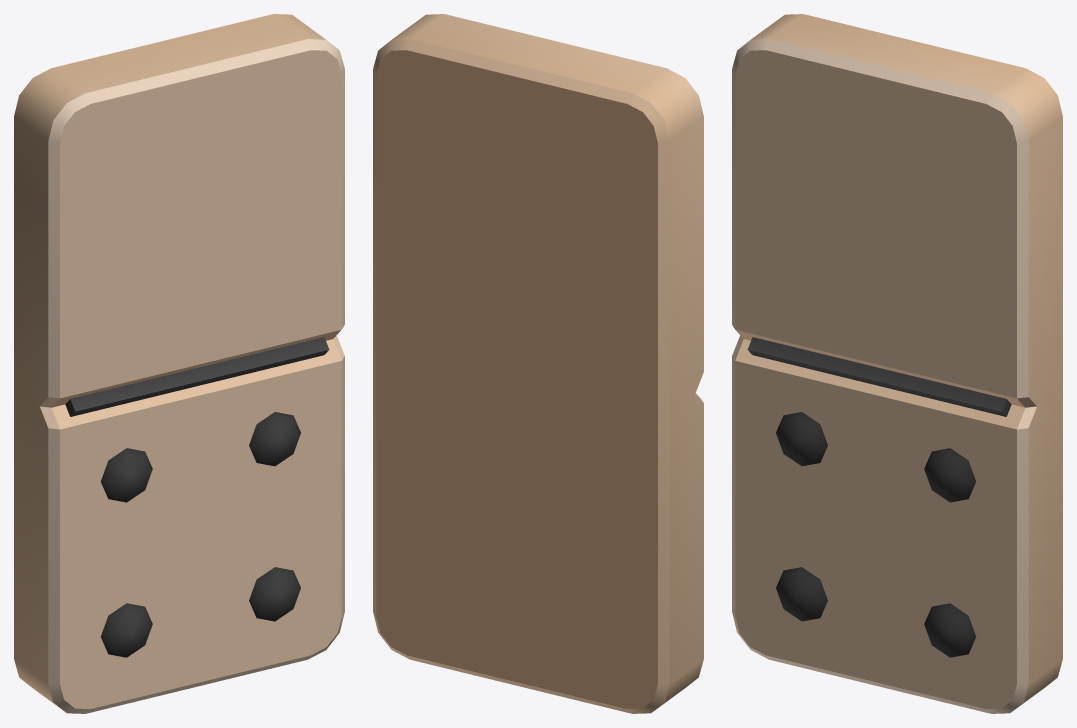
The model's file is KFB_Domino_0-4.r1.glb.
3 renders of one model, left to right at view 1: azimuth 30°, elevation 25°; view 2: azimuth 150°, elevation 25°; view 3: azimuth 330°, elevation 25°, orthographic.
Parts seen in each view (by area): view 1: KFB_Domino_0-4; view 2: KFB_Domino_0-4; view 3: KFB_Domino_0-4.
Part boxes in pixels (x1,y1,x2,y2): KFB_Domino_0-4: (14, 14, 344, 713); KFB_Domino_0-4: (373, 14, 703, 713); KFB_Domino_0-4: (732, 14, 1062, 713).
Bounding box in the file's own units: 2.44 × 4.87 × 0.6739.
Materials: 1 (1 with a texture image).
